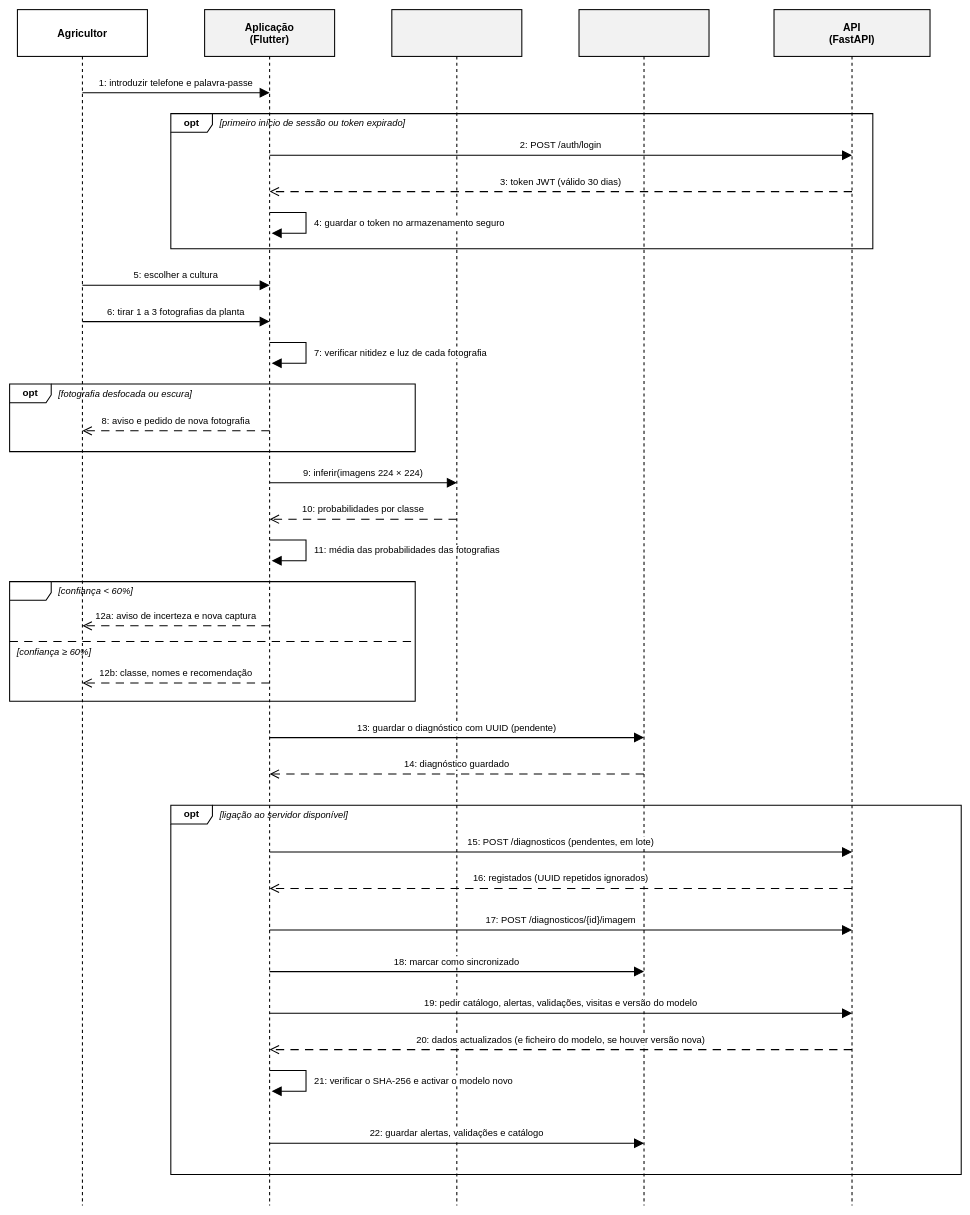
This 970x1215 diagram has some shape labels left out. Each missing label, with the box of its shape:
alt: (9, 581, 415, 701)
Dados locais (SQLite, JSON): (578, 9, 709, 1206)
Modelo (TFLite): (391, 9, 522, 1206)
